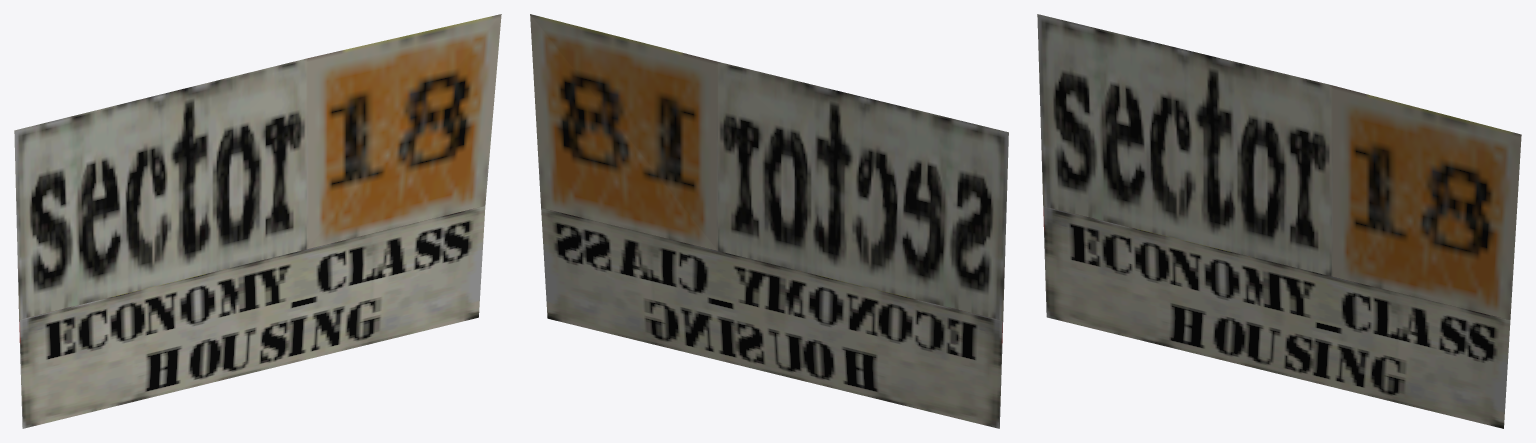
File: Schild_Sector [18]_1528.glb
3 views of the same model, side by side, from view 1: azimuth 30°, elevation 25°; view 2: azimuth 150°, elevation 25°; view 3: azimuth 330°, elevation 25° (orthographic).
Visible parts, largest first — view 1: pPlaneShape66, pPlaneShape67, pPlaneShape61; view 2: pPlaneShape66, pPlaneShape67, pPlaneShape61; view 3: pPlaneShape66, pPlaneShape67, pPlaneShape61.
Part boxes in pixels (<box>): pPlaneShape66: <box>14,58,306,319</box>; pPlaneShape67: <box>19,206,485,428</box>; pPlaneShape61: <box>306,14,501,249</box>; pPlaneShape66: <box>718,62,1008,320</box>; pPlaneShape67: <box>541,208,1003,428</box>; pPlaneShape61: <box>530,14,717,250</box>; pPlaneShape66: <box>1037,14,1331,276</box>; pPlaneShape67: <box>1043,206,1510,428</box>; pPlaneShape61: <box>1331,85,1521,319</box>.
Size of the model in its own units: 0.5622 by 0.3335 by 0.00511.
3 materials, 3 textured.
